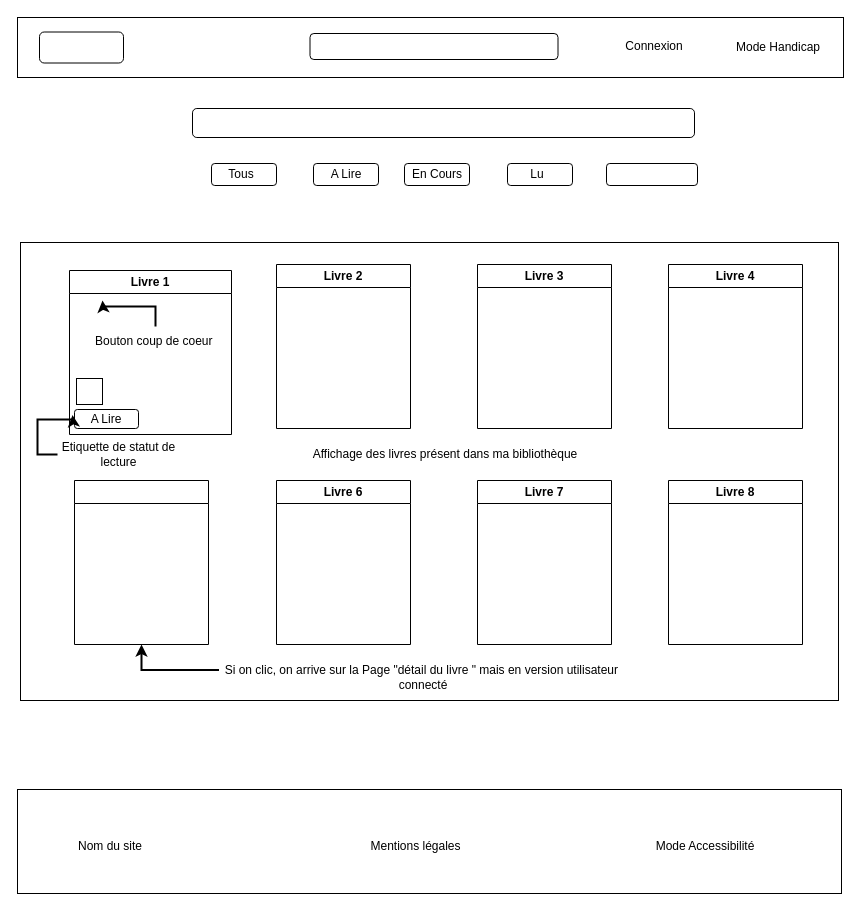
Image size: 861x911. Some labels were removed from this diagram. The shapes that lost their labels are listed below. From the top down, each one's centre as x and y in pixels, then its label:
At (x=81, y=47): "Logo".
At (x=433, y=46): "Moteur de recherche".
At (x=443, y=123): "Titre de Ma bibliothèque".
At (x=652, y=174): "Coup de Coeur".
At (x=141, y=562): "Livre 5".
